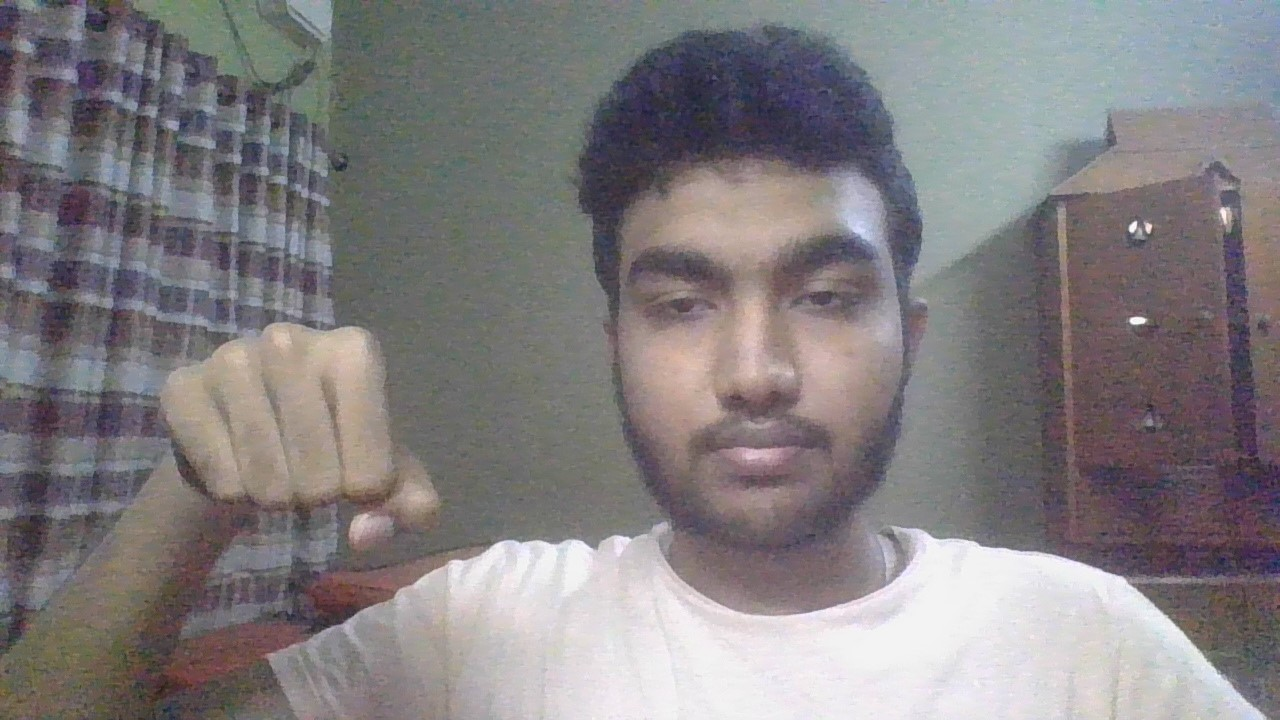Yes: (136, 304, 454, 564)
